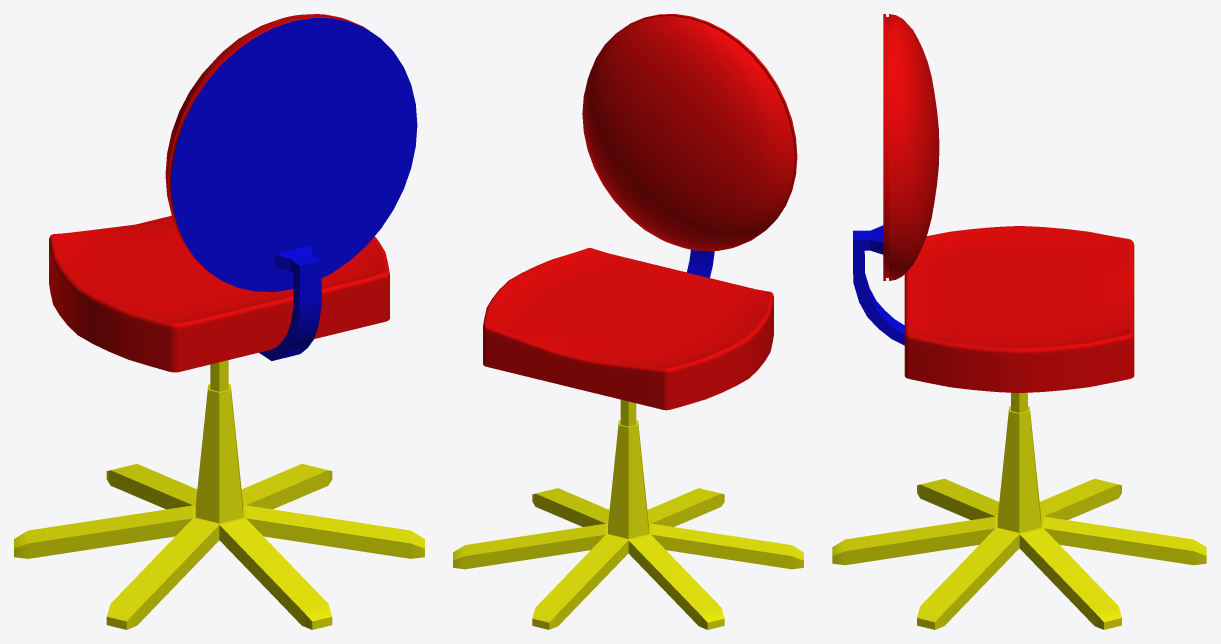
Rendered from DeskChair.fbx.
3 renders of one model, left to right at view 1: azimuth 30°, elevation 25°; view 2: azimuth 150°, elevation 25°; view 3: azimuth 270°, elevation 25°, orthographic. The views are drawn at different scales.
Visible parts, largest first — view 1: pCube4; view 2: pCube4; view 3: pCube4.
Part boxes in pixels (x1,y1,x2,y2): pCube4: (14,14,424,629); pCube4: (453,14,803,629); pCube4: (832,14,1206,629).
Bounding box in the file's own units: 57.08 × 101 × 63.85.
